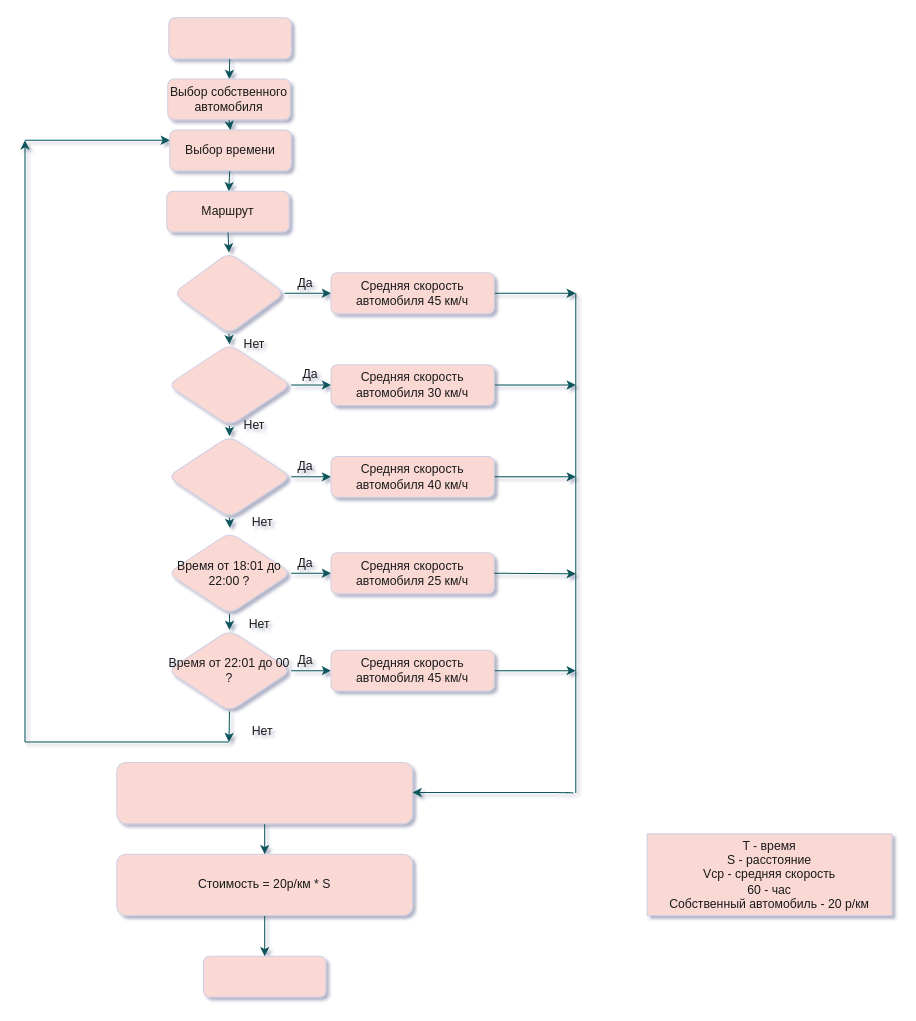
The diagram is 916 pixels wide and 1021 high, and some of its shapes have lost their labels. Here are the shapes that lost their labels. From the top down, the box of each, then its label:
(168, 17, 291, 59): Начало
(172, 251, 285, 334): Время от 00:01 до 08:00 ?
(167, 343, 291, 426): Время от 08:01 до 12:00 ?
(167, 435, 291, 518): Время от 12:01 до 18:00
(116, 761, 413, 824): Время: T = (S/Vср)*60
(202, 955, 326, 997): Конец
